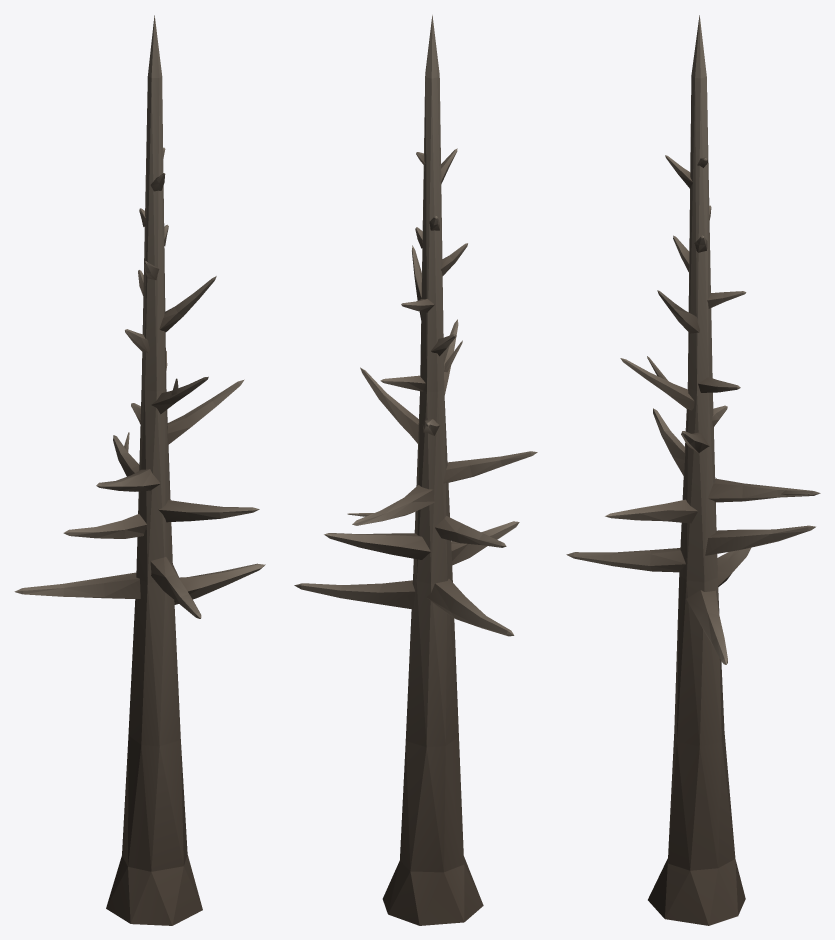
The model's file is dead_M_long_s7.glb.
3 views of the same model, side by side, from view 1: azimuth 30°, elevation 25°; view 2: azimuth 150°, elevation 25°; view 3: azimuth 270°, elevation 25° (orthographic).
Parts seen in each view (by area): view 1: Tree; view 2: Tree; view 3: Tree.
Boxes of the visible parts, box(x1,y1,x2,y2) form: Tree: box(14, 15, 265, 925); Tree: box(294, 15, 537, 925); Tree: box(566, 15, 820, 925).
Size of what is drawn, in the model's own units: 2.03 by 7.32 by 1.9.
